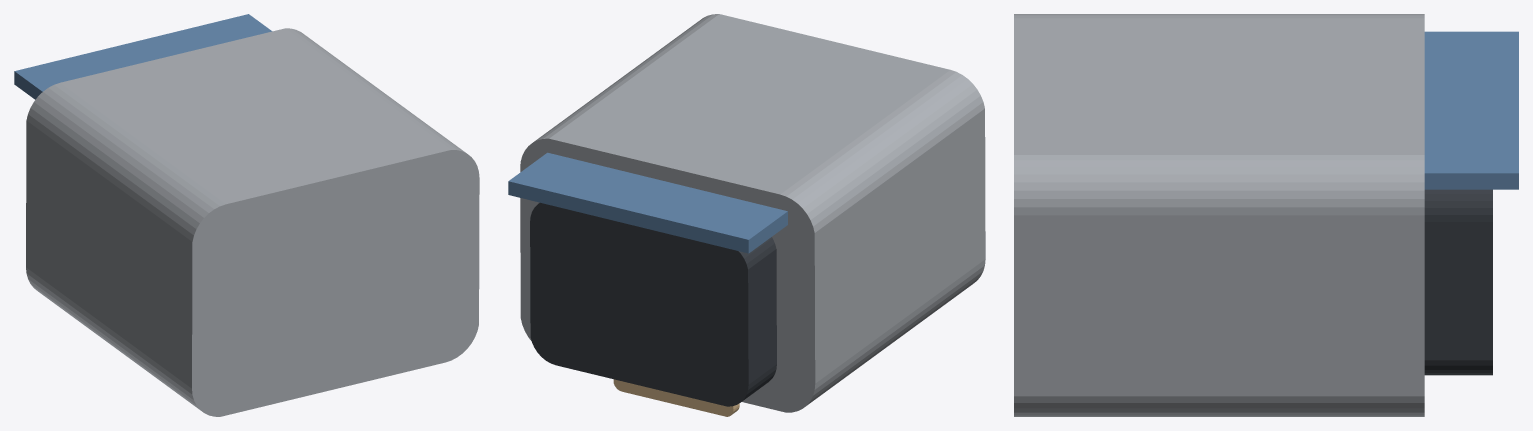
The model's file is FOCUS_POD_001.glb.
3 views of the same model, side by side, from view 1: azimuth 30°, elevation 25°; view 2: azimuth 150°, elevation 25°; view 3: azimuth 270°, elevation 25° (orthographic). The views are drawn at different scales.
Visible parts, largest first — view 1: pod_shell_000, inside_back_002; view 2: pod_shell_000, seat_cushion_001, inside_back_002, work_surface_003; view 3: pod_shell_000, inside_back_002, seat_cushion_001.
Part boxes in pixels (x1,y1,x2,y2): pod_shell_000: [26, 28, 479, 416]; inside_back_002: [14, 14, 272, 99]; pod_shell_000: [520, 14, 985, 412]; seat_cushion_001: [530, 202, 776, 406]; inside_back_002: [508, 152, 787, 253]; work_surface_003: [613, 379, 739, 416]; pod_shell_000: [1014, 14, 1424, 416]; inside_back_002: [1424, 31, 1518, 189]; seat_cushion_001: [1424, 189, 1492, 375].
Bounding box in the file's own units: 1.35 × 1.05 × 1.66.
